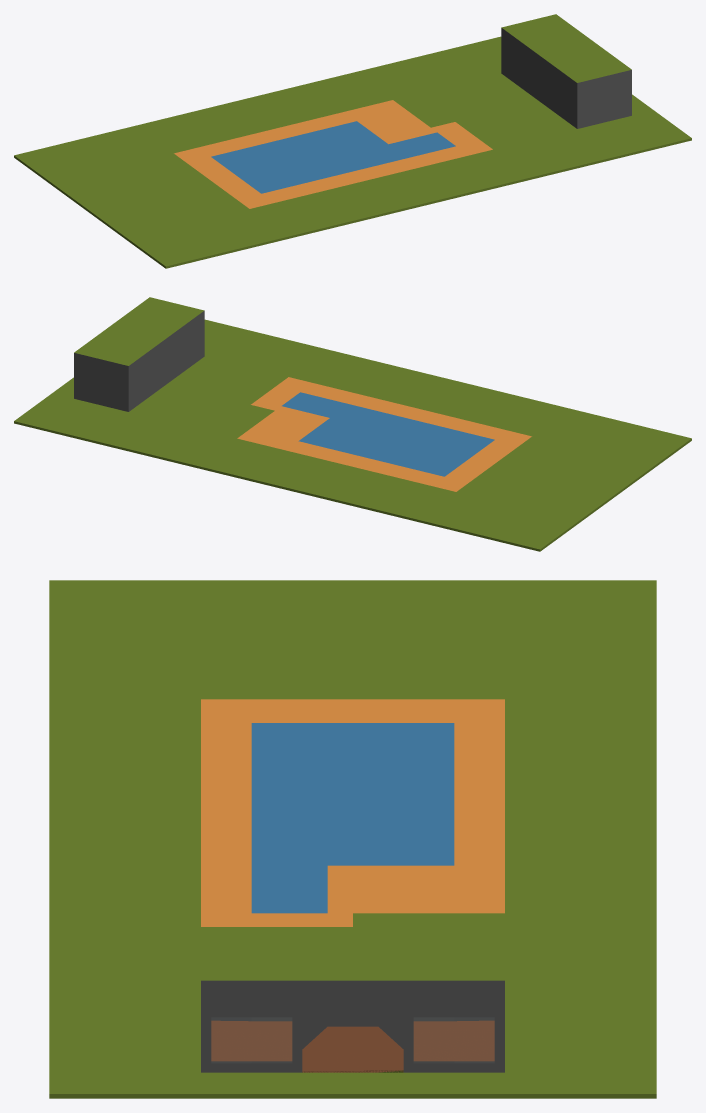
File: world4.glb
The picture shows the model from 3 angles, top to bottom: view 1: azimuth 30°, elevation 25°; view 2: azimuth 150°, elevation 25°; view 3: azimuth 270°, elevation 25°; orthographic projection. The views are drawn at different scales.
Parts seen in each view (by area): view 1: Plane; view 2: Plane; view 3: Plane.
Boxes of the visible parts, left/top/right/bottom form: Plane: left=14, top=14, right=691, bottom=268; Plane: left=14, top=297, right=691, bottom=551; Plane: left=49, top=580, right=656, bottom=1098.
Size of the model in its own units: 120 by 10.83 by 60.
